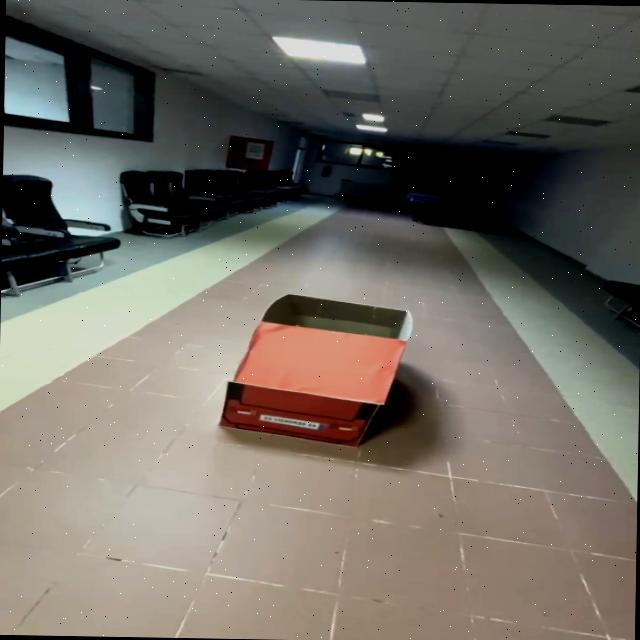red_car: (197, 272, 438, 456)
